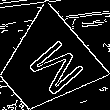M_SW: (13, 31, 80, 99)
